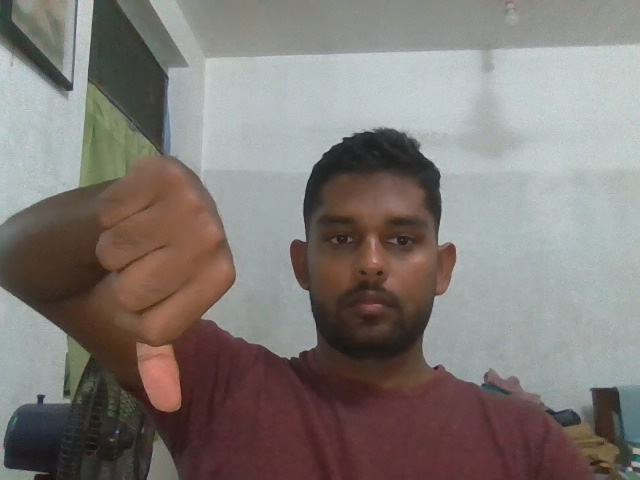dontlike: (65, 145, 245, 426)
